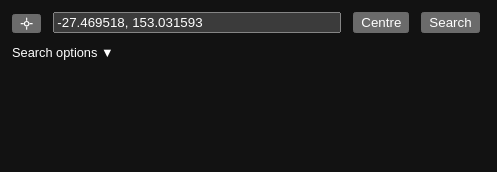
Test: SearchForm › expands and collapses the search options
expect the field named "Location" is shown: met, box [53, 12, 341, 33]
expect the field labelled "Radius (km)" is not shown: met
Click the button "Search options ▼".
click(63, 52)  # box [12, 45, 114, 60]
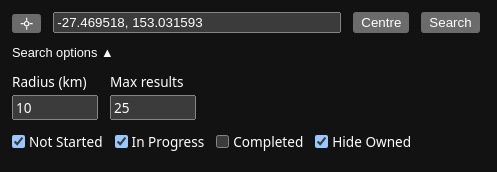
expect the field named "Location" is shown: met, box [53, 12, 341, 33]
expect the number field labelled "Radius (km)" is shown: met, box [12, 95, 98, 120]
Click the button "Search options ▲".
click(63, 52)  # box [12, 45, 114, 60]
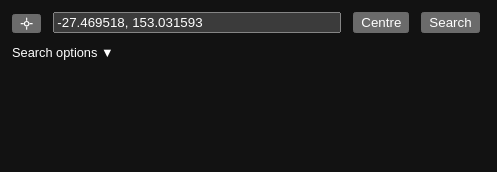
expect the field named "Location" is shown: met, box [53, 12, 341, 33]
expect the label labelled "Radius (km)" is gone: met
